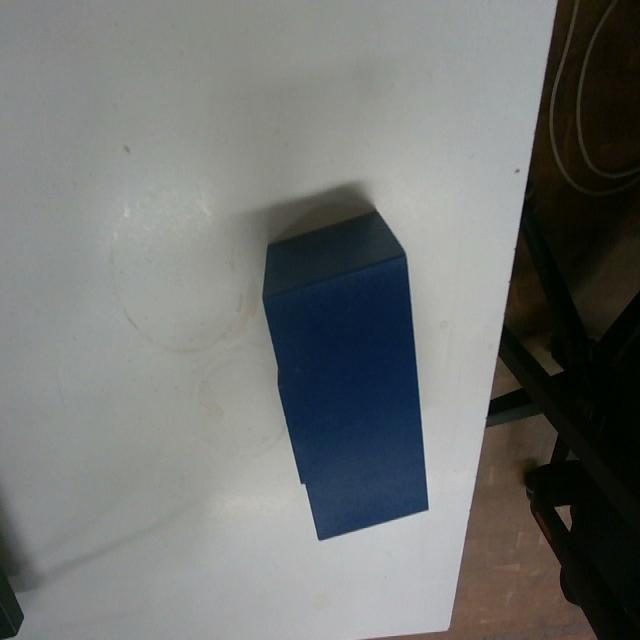Blue Cuboid: (259, 204, 431, 541)
